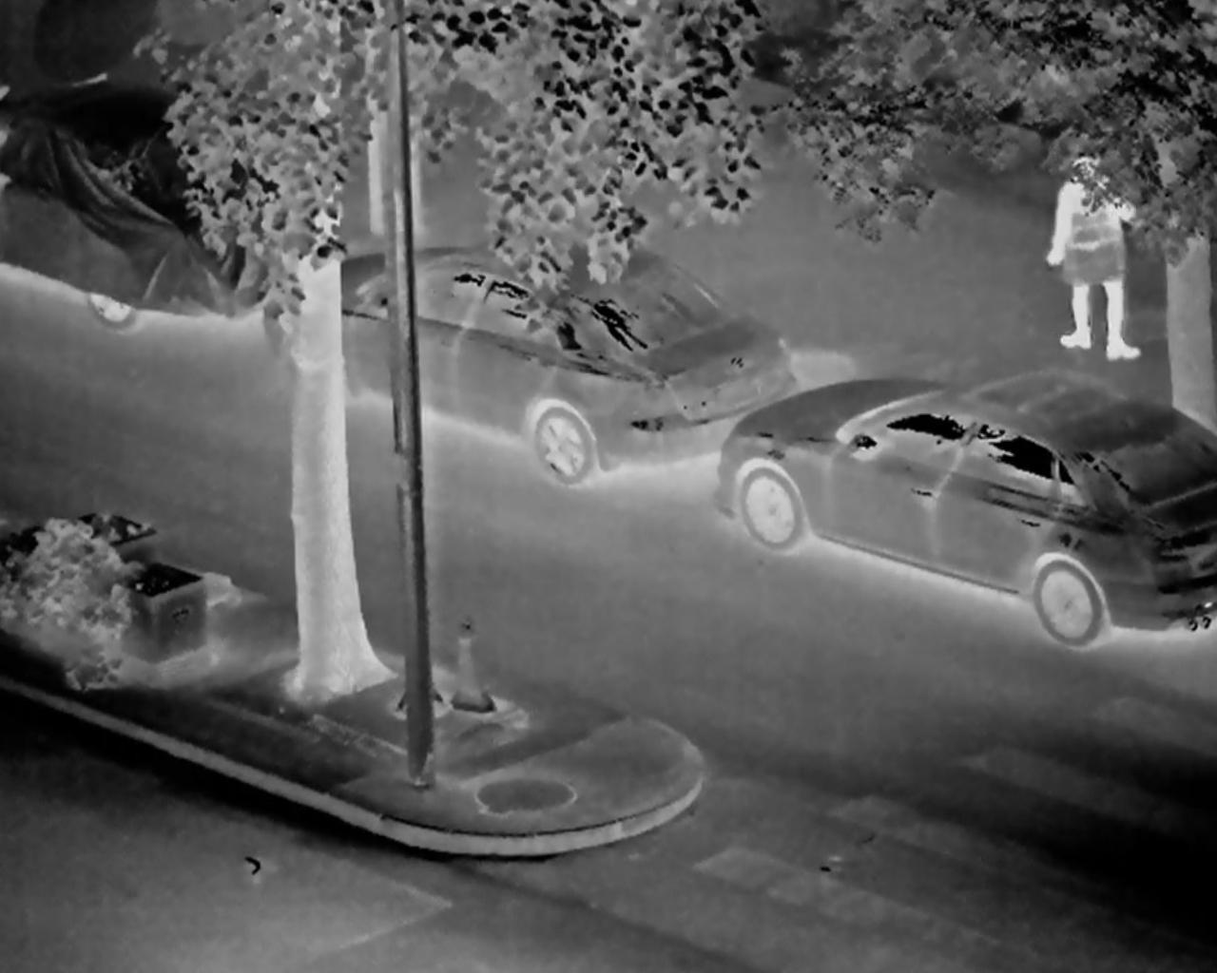person: (1026, 140, 1139, 373)
